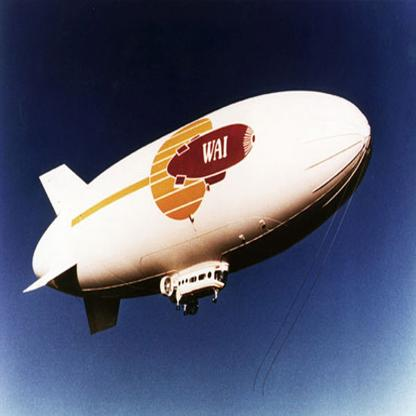Airship: (22, 88, 375, 336)
